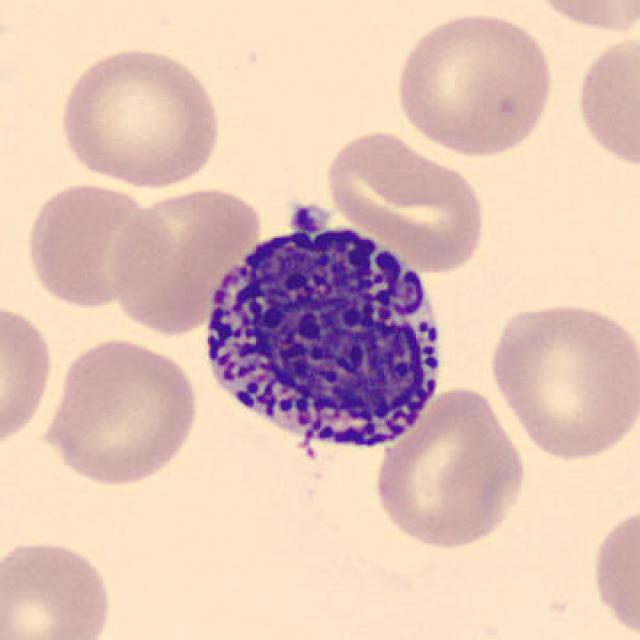Basophil: (190, 198, 459, 472)
RBC: (368, 382, 532, 554), (320, 125, 491, 277), (484, 294, 636, 464), (37, 333, 201, 490), (390, 7, 558, 160), (53, 42, 226, 190), (105, 182, 265, 336), (19, 178, 172, 310), (0, 534, 117, 640), (571, 27, 638, 175), (0, 298, 57, 453), (588, 499, 638, 640), (519, 0, 640, 37)
